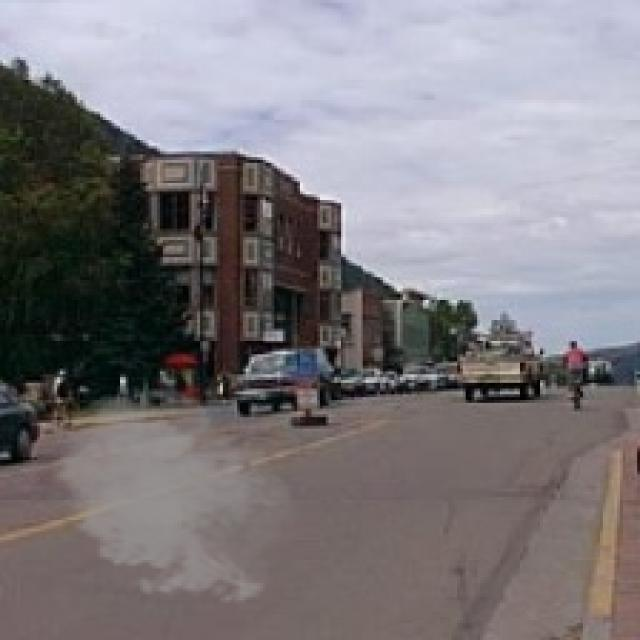Smoke: (48, 372, 300, 608)
